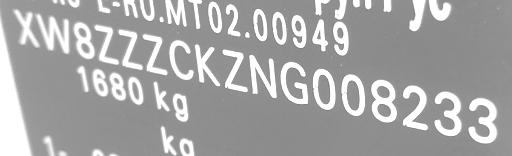letter: (462, 93, 502, 144), (34, 10, 72, 55), (246, 51, 280, 101), (400, 81, 432, 134), (430, 87, 464, 136), (368, 76, 400, 127), (218, 46, 250, 96), (337, 71, 367, 120), (92, 19, 122, 68), (278, 59, 308, 107), (310, 64, 340, 112), (10, 5, 42, 50), (192, 41, 220, 89), (116, 25, 144, 72), (140, 30, 168, 77), (168, 35, 196, 81), (70, 20, 98, 63)
